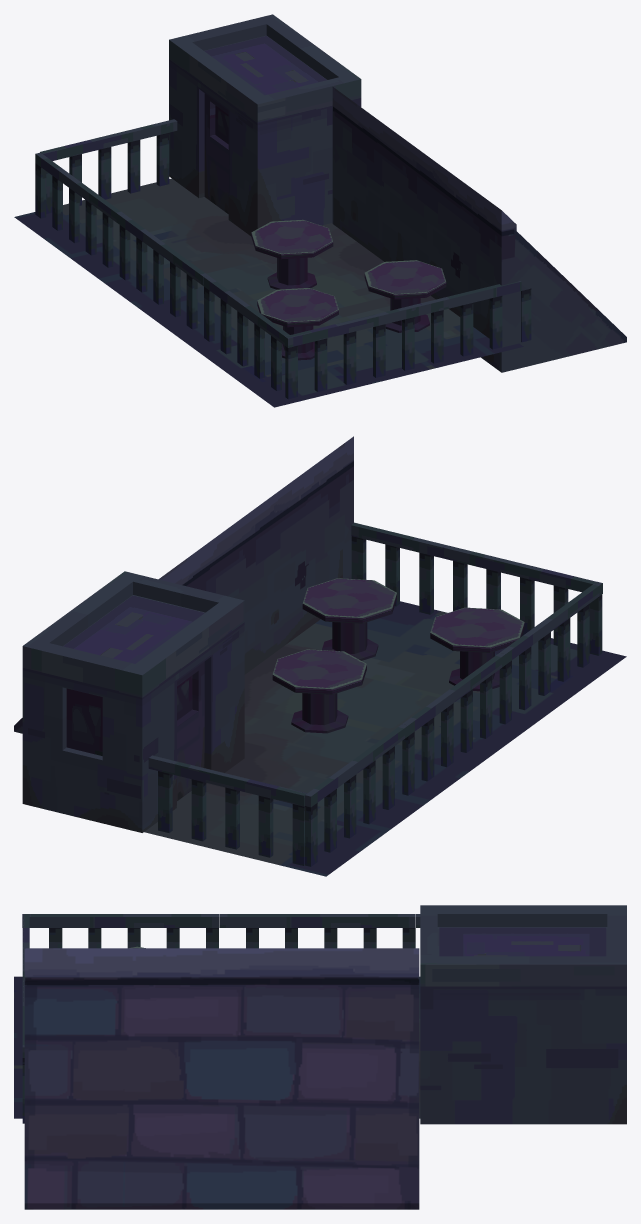
The model's file is bar_etage2.fbx.
The picture shows the model from 3 angles, top to bottom: view 1: azimuth 30°, elevation 25°; view 2: azimuth 150°, elevation 25°; view 3: azimuth 270°, elevation 25°; orthographic projection. The views are drawn at different scales.
Parts seen in each view (by area): view 1: Cylinder.Table.3; view 2: Cylinder.Table.3; view 3: Cylinder.Table.3.
Boxes of the visible parts, x1,y1,x2,y2 form: Cylinder.Table.3: (14,14,626,407); Cylinder.Table.3: (14,436,626,876); Cylinder.Table.3: (14,905,626,1209).
Bounding box in the file's own units: 688 × 299 × 875.
